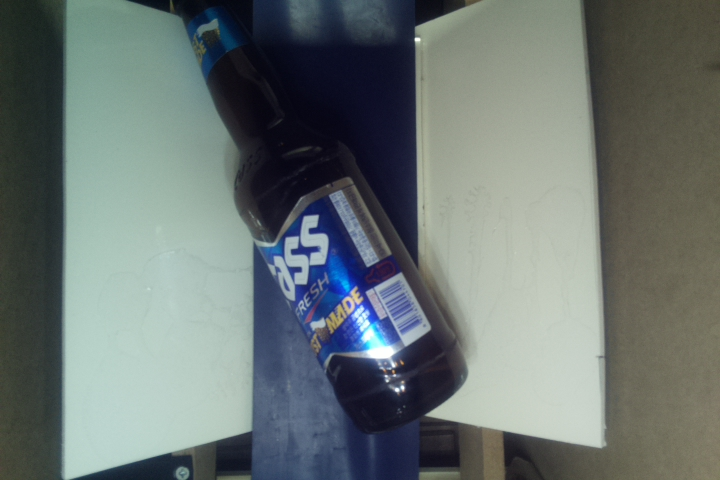makju: (167, 1, 467, 434)
